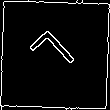L_SE: (26, 26, 84, 84)
